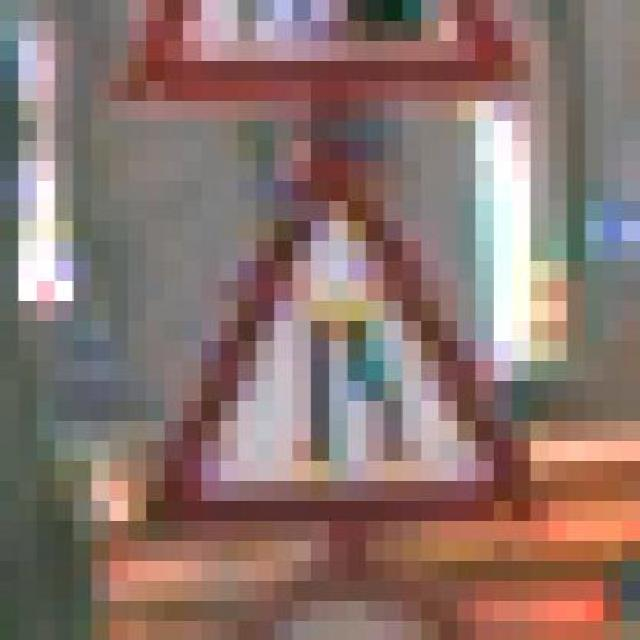-Road narrows on right: (110, 100, 548, 540)
